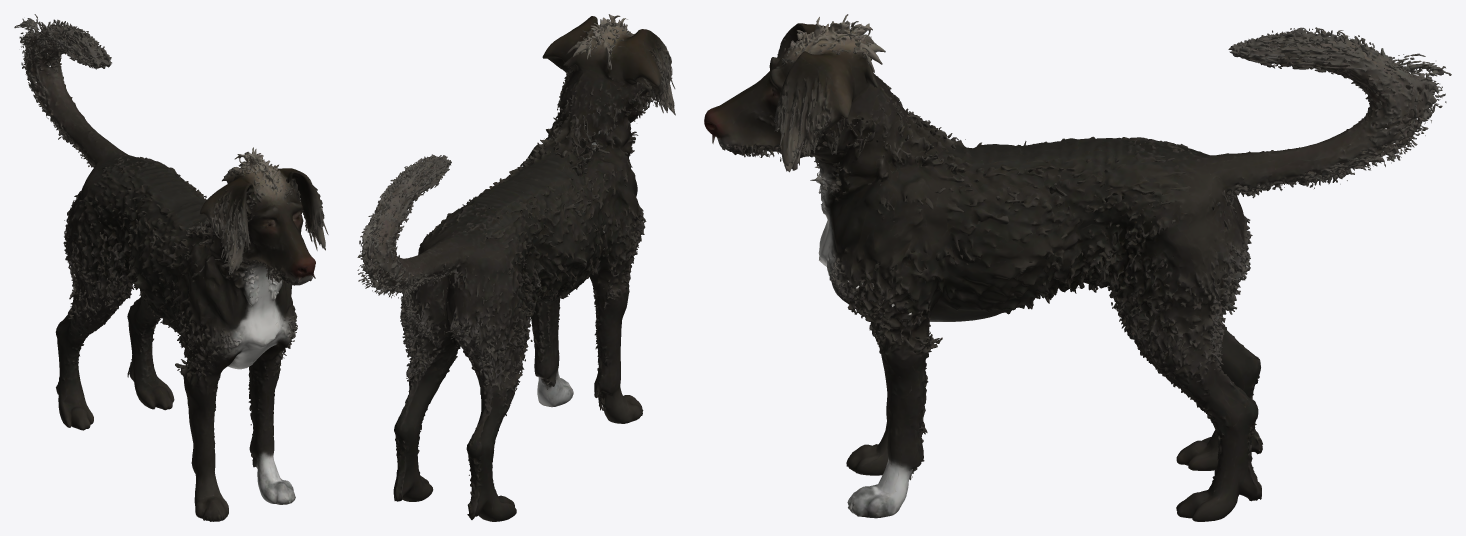
The model's file is Patty_HF_3D.glb.
3 views of the same model, side by side, from view 1: azimuth 30°, elevation 25°; view 2: azimuth 150°, elevation 25°; view 3: azimuth 270°, elevation 25° (orthographic). The views are drawn at different scales.
Parts seen in each view (by area): view 1: world; view 2: world; view 3: world.
Part boxes in pixels (x1=…): world: x1=14, y1=14, x2=328, y2=521; world: x1=357, y1=14, x2=675, y2=521; world: x1=704, y1=14, x2=1451, y2=521.
Size of the model in its own units: 0.2218 by 0.6921 by 0.9942.
1 material, 1 textured.
